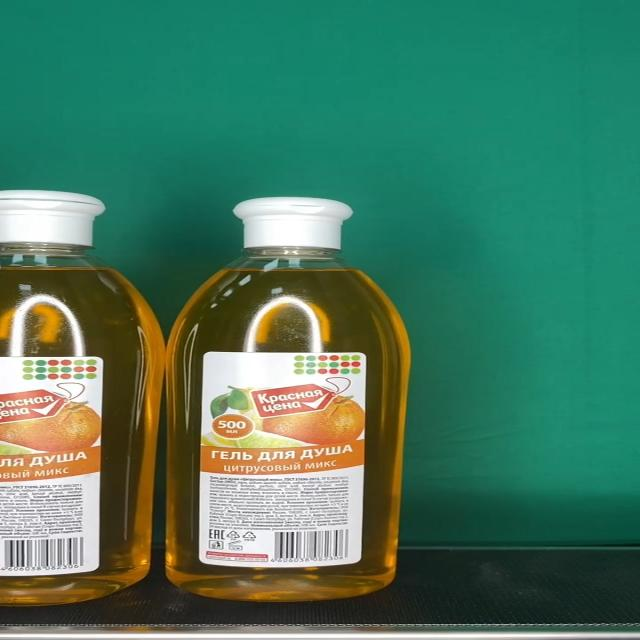Bottle: (166, 195, 411, 602)
Cap: (232, 197, 354, 250)
